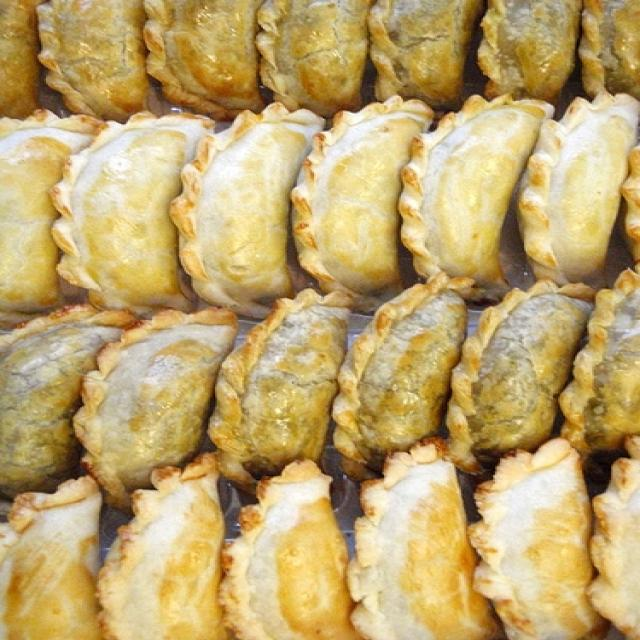炸货点心: (14, 15, 582, 621)
